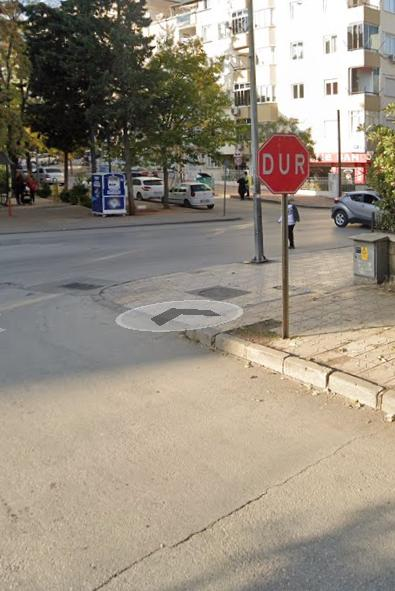stop: (259, 134, 308, 193)
